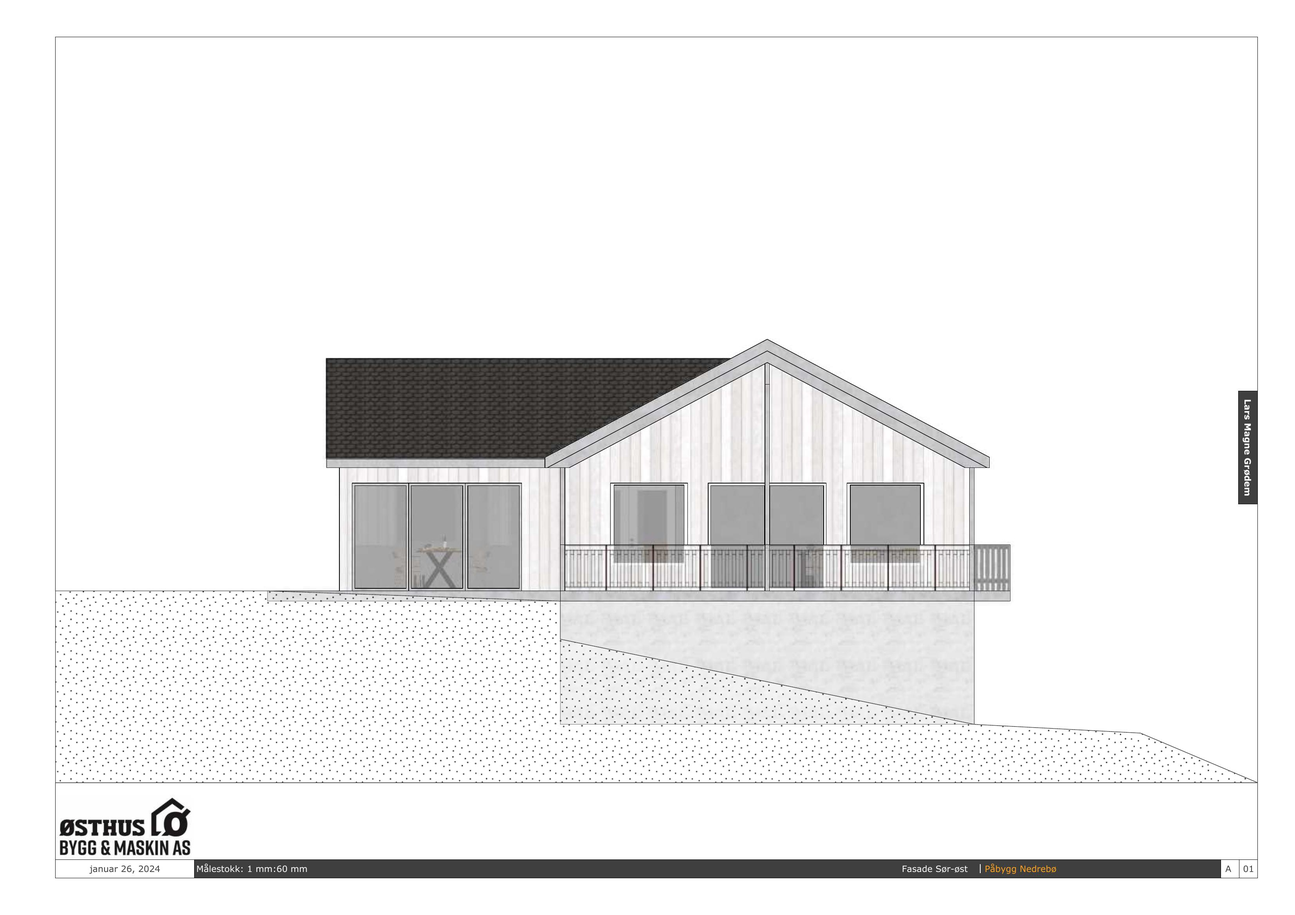fasade: (326, 339, 1010, 728)
